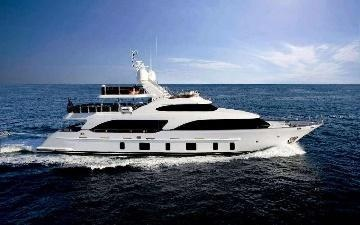yacht: (39, 61, 322, 156)
